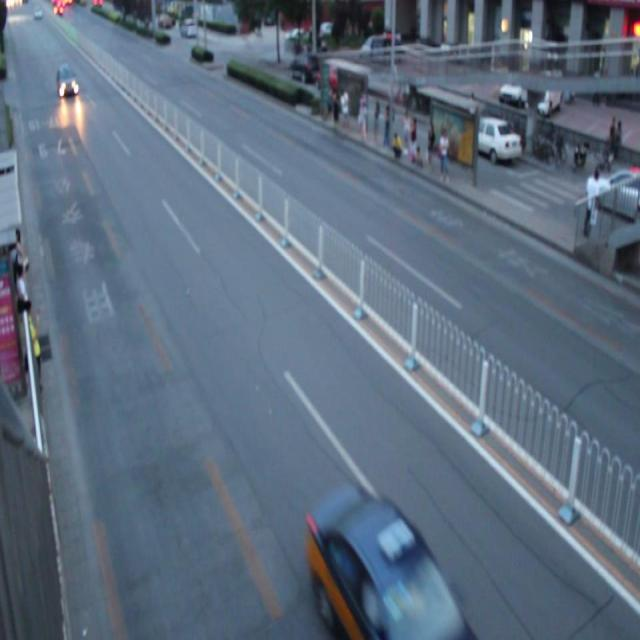car: (308, 484, 471, 640)
